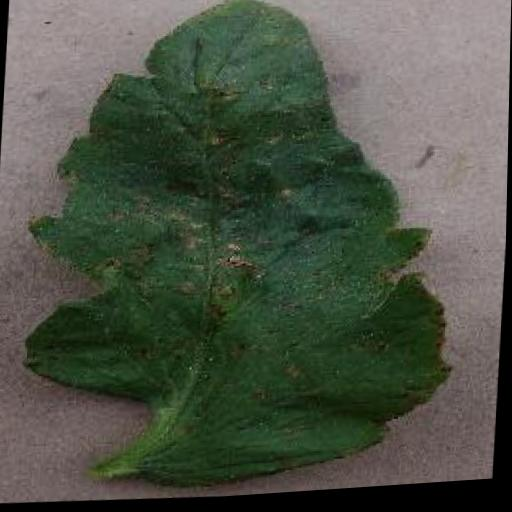Bacterial Spot: (9, 0, 477, 511)
